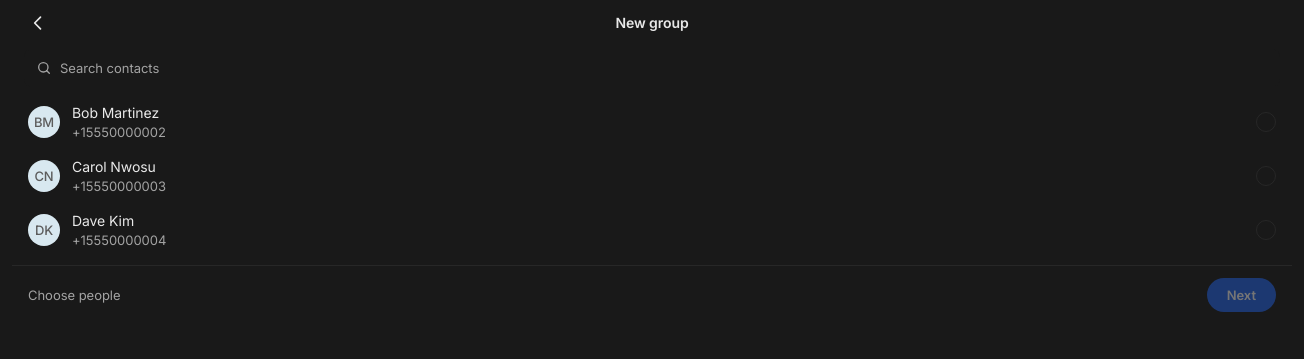
it: NewGroupPanel › asks for a name before creating anything
The image size is (1304, 359).
Click the text "Bob Martinez" at (116, 112), box [72,104,159,121]
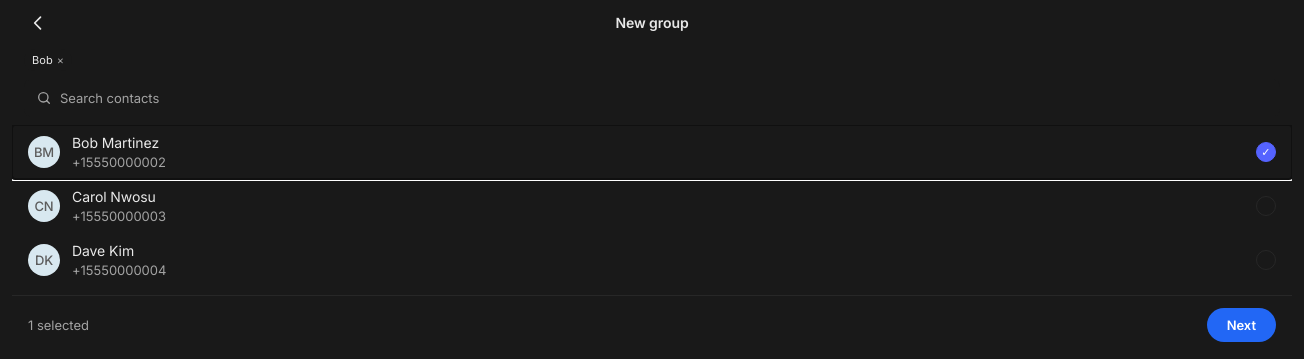
Click the button "Next" at (1241, 325), box [1207,308,1276,342]
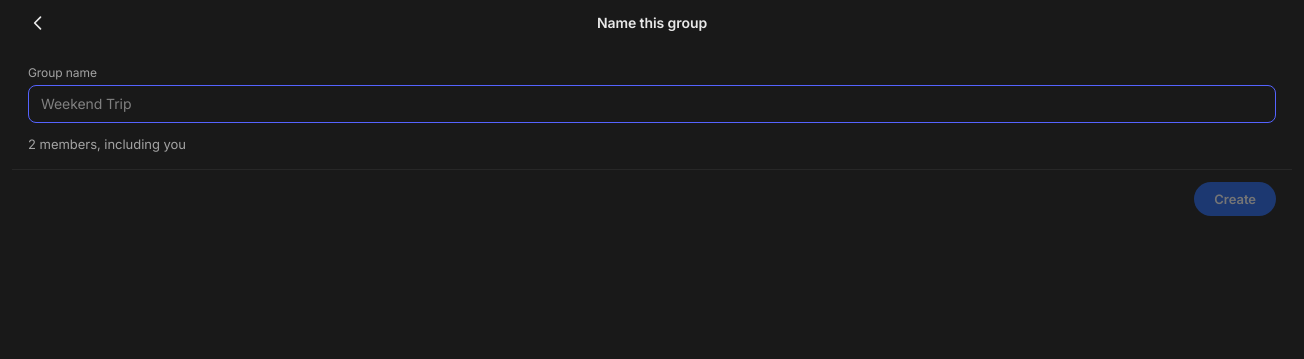
Check: the field labelled "Group name" is shown, box [28,85,1276,123]
